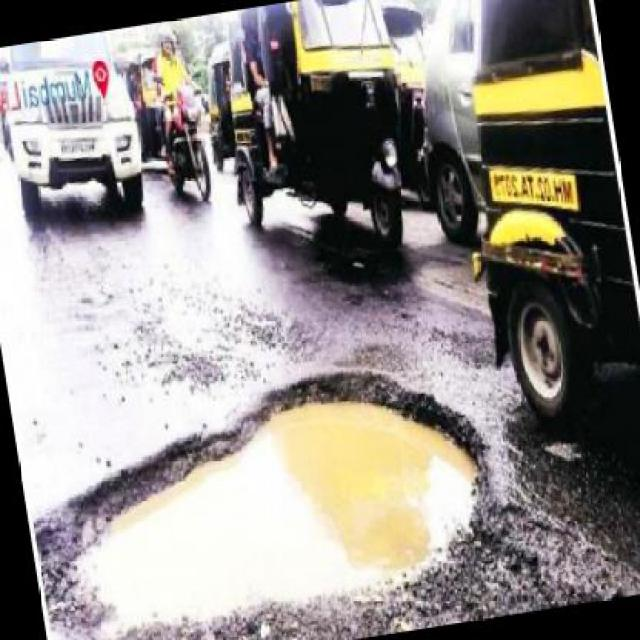pothole1: (14, 343, 515, 639)
